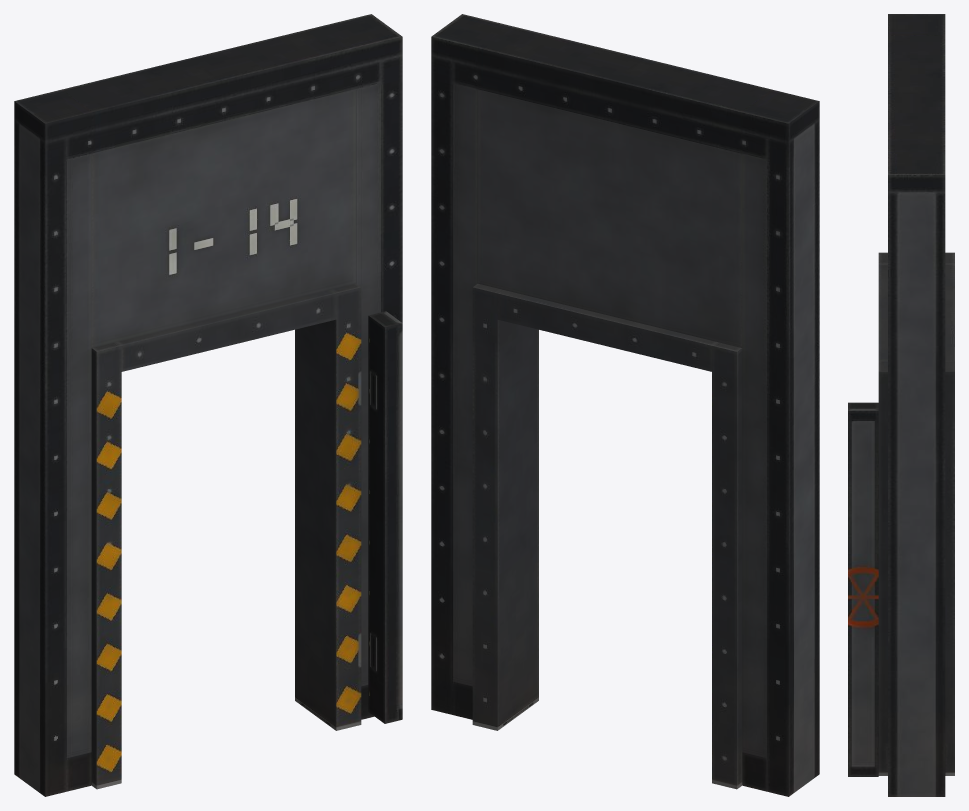
Rendered from bulkhead_door.glb.
3 views of the same model, side by side, from view 1: azimuth 30°, elevation 25°; view 2: azimuth 150°, elevation 25°; view 3: azimuth 270°, elevation 25° (orthographic). The views are drawn at different scales.
Parts seen in each view (by area): view 1: bulkhead_door; view 2: bulkhead_door; view 3: bulkhead_door.
Boxes of the visible parts, x1=… form: bulkhead_door: x1=14, y1=14, x2=402, y2=796; bulkhead_door: x1=431, y1=14, x2=819, y2=796; bulkhead_door: x1=848, y1=14, x2=954, y2=796.
Bounding box in the file's own units: 2 × 3.6 × 0.56.
Materials: 1 (1 with a texture image).
